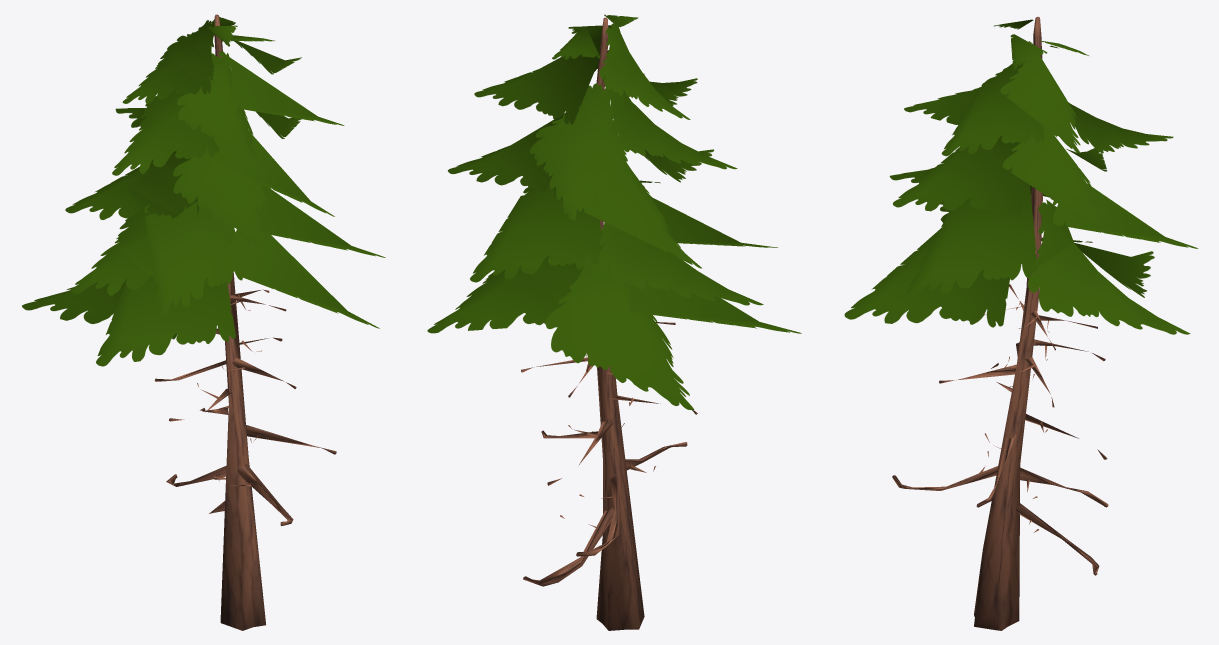
The model's file is pine_3.glb.
The picture shows the model from 3 angles, left to right: view 1: azimuth 30°, elevation 25°; view 2: azimuth 150°, elevation 25°; view 3: azimuth 270°, elevation 25°; orthographic projection. The views are drawn at different scales.
Visible parts, largest first — view 1: Pine_3; view 2: Pine_3; view 3: Pine_3.
Boxes of the visible parts, x1,y1,x2,y2 form: Pine_3: (22, 14, 385, 630); Pine_3: (427, 14, 801, 630); Pine_3: (844, 16, 1198, 630).
Size of the model in its own units: 3.61 by 7.23 by 4.
Materials: 2 (2 with a texture image).
